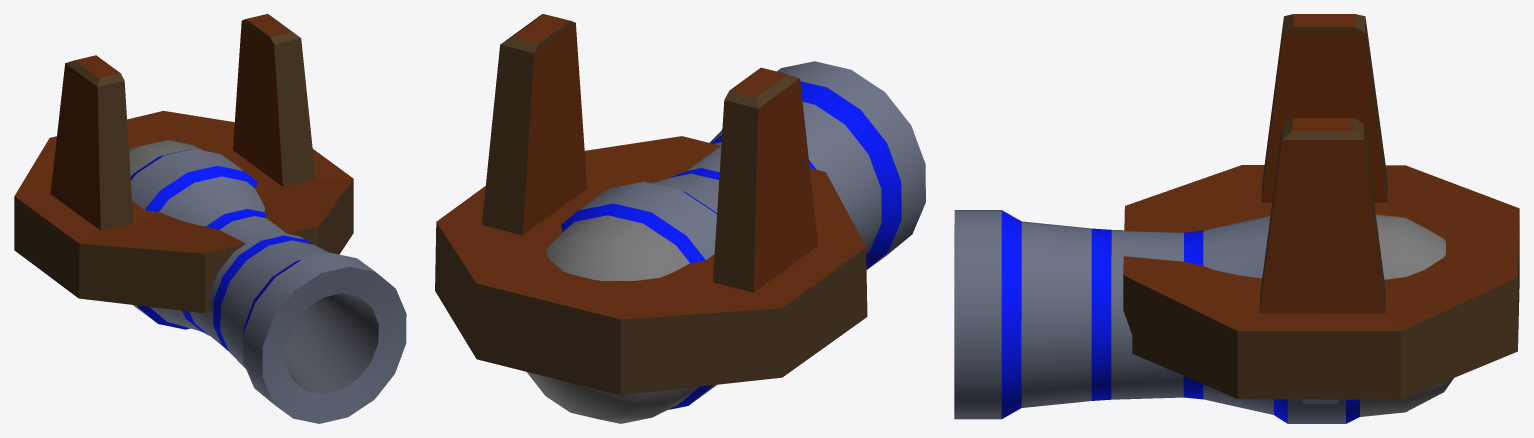
File: Cannon4.fbx
The picture shows the model from 3 angles, left to right: view 1: azimuth 30°, elevation 25°; view 2: azimuth 150°, elevation 25°; view 3: azimuth 270°, elevation 25°; orthographic projection. The views are drawn at different scales.
Visible parts, largest first — view 1: Rotater, Cannon; view 2: Rotater, Cannon; view 3: Rotater, Cannon.
Part boxes in pixels (x1,y1,x2,y2): Rotater: (14,14,353,313); Cannon: (129,140,406,423); Rotater: (435,14,867,395); Cannon: (527,61,925,423); Rotater: (1123,14,1519,399); Cannon: (954,210,1453,423).
Size of the model in its own units: 87.04 by 81.93 by 124.
